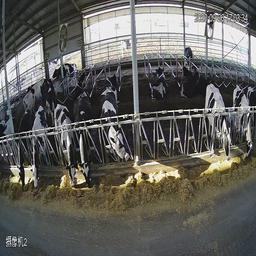cow: (203, 81, 237, 183), (99, 81, 131, 181), (72, 89, 101, 190), (49, 99, 79, 191), (28, 97, 54, 194), (13, 108, 34, 209), (234, 82, 254, 162), (22, 70, 55, 104), (173, 63, 200, 98), (149, 61, 172, 102), (50, 56, 80, 82), (177, 39, 196, 61)
